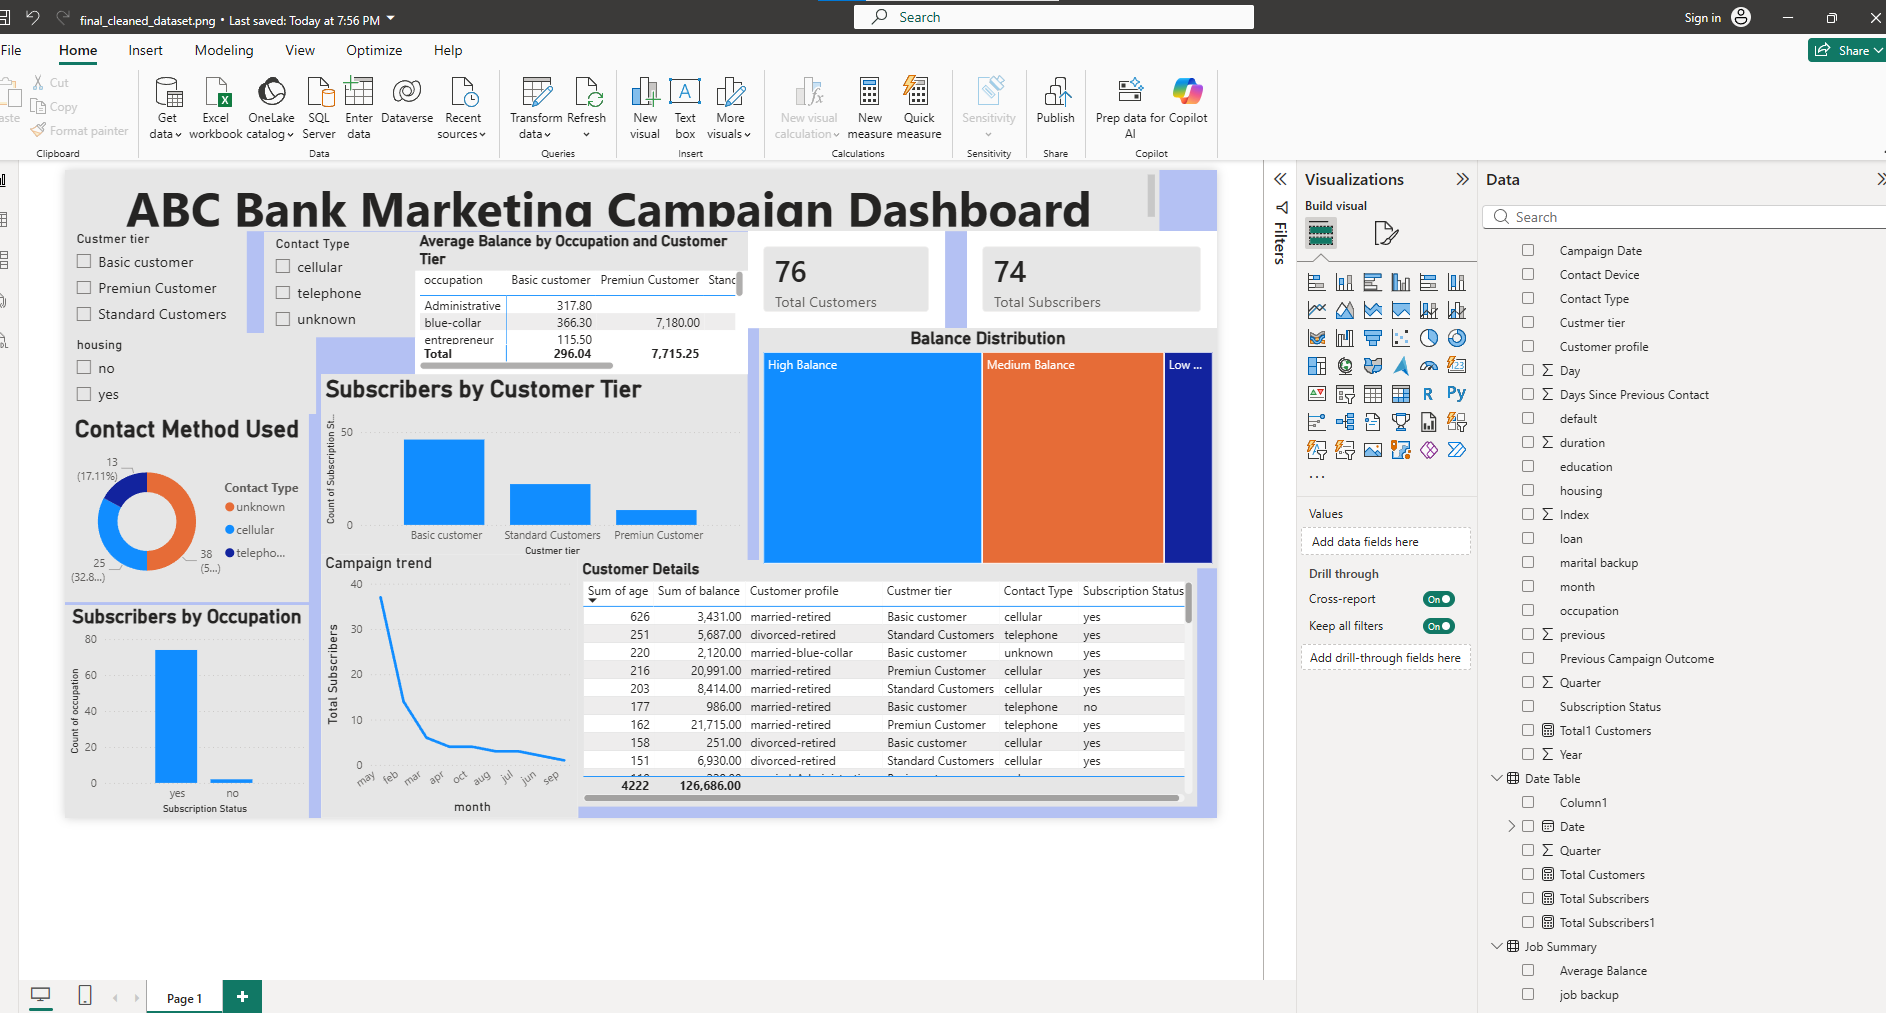

The dashboard page shown, as its layout file describes it:
{"tool":"powerbi","page":{"name":"Page 1","canvas":[1280,720],"ordinal":0},"visuals":[{"type":"textbox","box":[0,0,1215.6,67.8],"z":0},{"type":"cardVisual","fields":{"Data":["Date Table.Total Subscribers"]},"box":[1002.2,67.8,277.8,107.8],"z":2},{"type":"cardVisual","fields":{"Data":["Date Table.Total Customers"]},"box":[758.9,67.8,218.9,107.8],"z":3},{"type":"clusteredColumnChart","title":"Subscribers by Occupation","fields":{"Y":["CountNonNull(bank.job backup)"],"Category":["bank.Subscription Status"]},"box":[0,483.3,271.1,236.7],"z":4},{"type":"clusteredColumnChart","title":"Subscribers by Customer Tier","fields":{"Y":["CountNonNull(bank.Subscription Status)"],"Category":["bank.Custmer tier"]},"box":[284.4,226.7,474.4,206.7],"z":5},{"type":"donutChart","title":"Contact Method Used","fields":{"Category":["bank.Contact Type"],"Y":["CountNonNull(bank.Subscription Status)"]},"box":[0,271.1,271.1,208.9],"z":6},{"type":"tableEx","title":"Customer Details","fields":{"Values":["Sum(bank.age)","Sum(bank.balance)","bank.Customer profile","bank.Custmer tier","bank.Contact Type","bank.Subscription Status"]},"box":[570,433.3,687.8,274.4],"z":7},{"type":"pivotTable","title":"Average Balance by Occupation and Customer Tier","fields":{"Rows":["bank.occupation"],"Columns":["bank.Custmer tier"],"Values":["Avg(bank.balance)"]},"box":[388.9,68.9,370,157.8],"z":8},{"type":"treemap","title":"Balance Distribution","fields":{"Group":["bank.Balance Category"],"Values":["Sum(bank.balance)"]},"box":[771.1,175.6,508.9,266.7],"z":9},{"type":"slicer","fields":{"Values":["bank.Custmer tier"]},"box":[0,63.3,202.2,117.8],"z":10},{"type":"slicer","fields":{"Values":["bank.Contact Type"]},"box":[221.1,68.9,167.8,116.7],"z":11},{"type":"slicer","fields":{"Values":["bank.housing"]},"box":[0,181.1,278.9,90],"z":12},{"type":"lineChart","title":"Campaign trend","fields":{"Category":["bank.month"],"Y":["Date Table.Total Subscribers"]},"box":[284.4,426.7,285.6,293.3],"z":13}]}

Visuals, with their boxes on the page's 1280x720 design canvas (x1, y1, x2, y2). These are canvas units, not pixel positions in the 1886x1013 screenshot, which may show the page scaled, cropped or inside an application window:
textbox: pyautogui.locateOnScreen(0, 0, 1216, 68)
cardVisual - Date Table.Total Subscribers: pyautogui.locateOnScreen(1002, 68, 1280, 176)
cardVisual - Date Table.Total Customers: pyautogui.locateOnScreen(759, 68, 978, 176)
"Subscribers by Occupation" clusteredColumnChart: pyautogui.locateOnScreen(0, 483, 271, 720)
"Subscribers by Customer Tier" clusteredColumnChart: pyautogui.locateOnScreen(284, 227, 759, 433)
"Contact Method Used" donutChart: pyautogui.locateOnScreen(0, 271, 271, 480)
"Customer Details" tableEx: pyautogui.locateOnScreen(570, 433, 1258, 708)
"Average Balance by Occupation and Customer Tier" pivotTable: pyautogui.locateOnScreen(389, 69, 759, 227)
"Balance Distribution" treemap: pyautogui.locateOnScreen(771, 176, 1280, 442)
slicer - bank.Custmer tier: pyautogui.locateOnScreen(0, 63, 202, 181)
slicer - bank.Contact Type: pyautogui.locateOnScreen(221, 69, 389, 186)
slicer - bank.housing: pyautogui.locateOnScreen(0, 181, 279, 271)
"Campaign trend" lineChart: pyautogui.locateOnScreen(284, 427, 570, 720)
